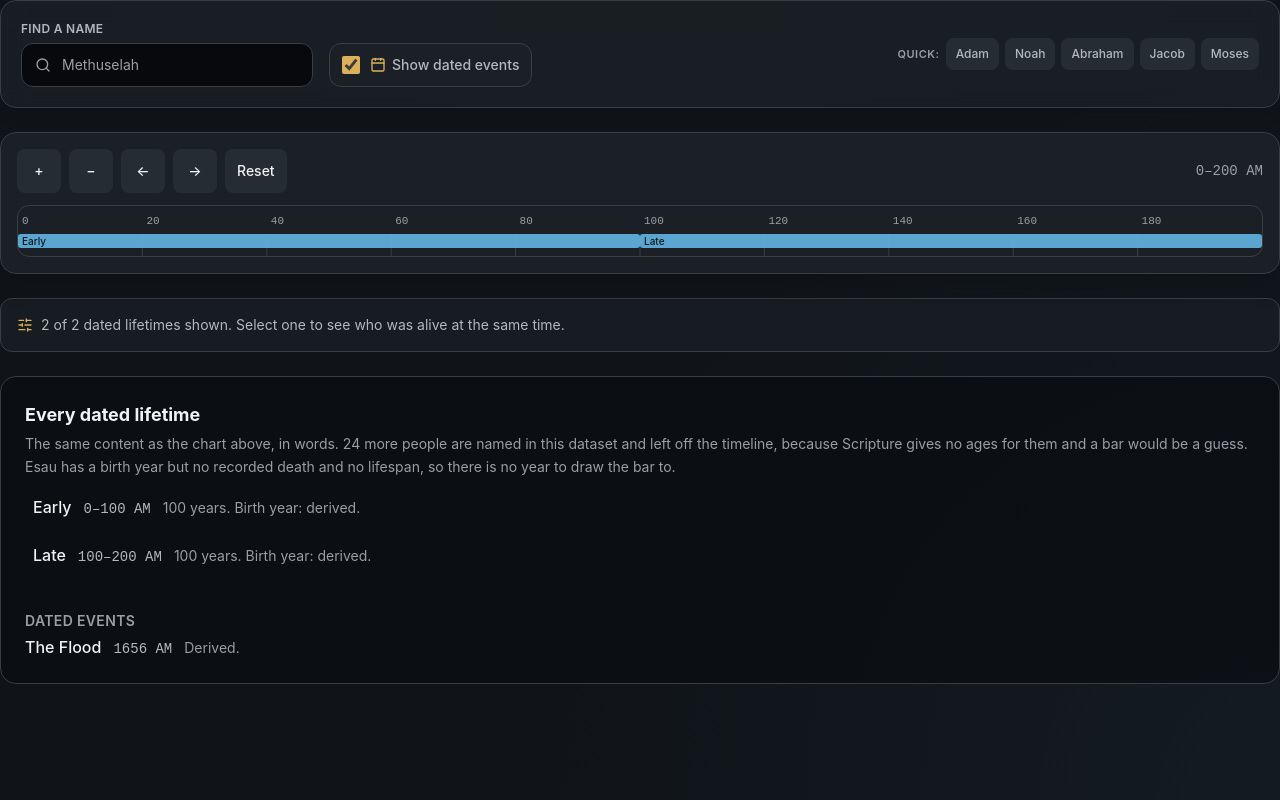
Test: Timeline › applies the half-open rule on screen, not only in the engine
This screenshot has width=1280, height=800.
Click the button "Early 0–100 AM 100 years. Birth year: derived.": (52, 506) [25, 494, 1255, 538]
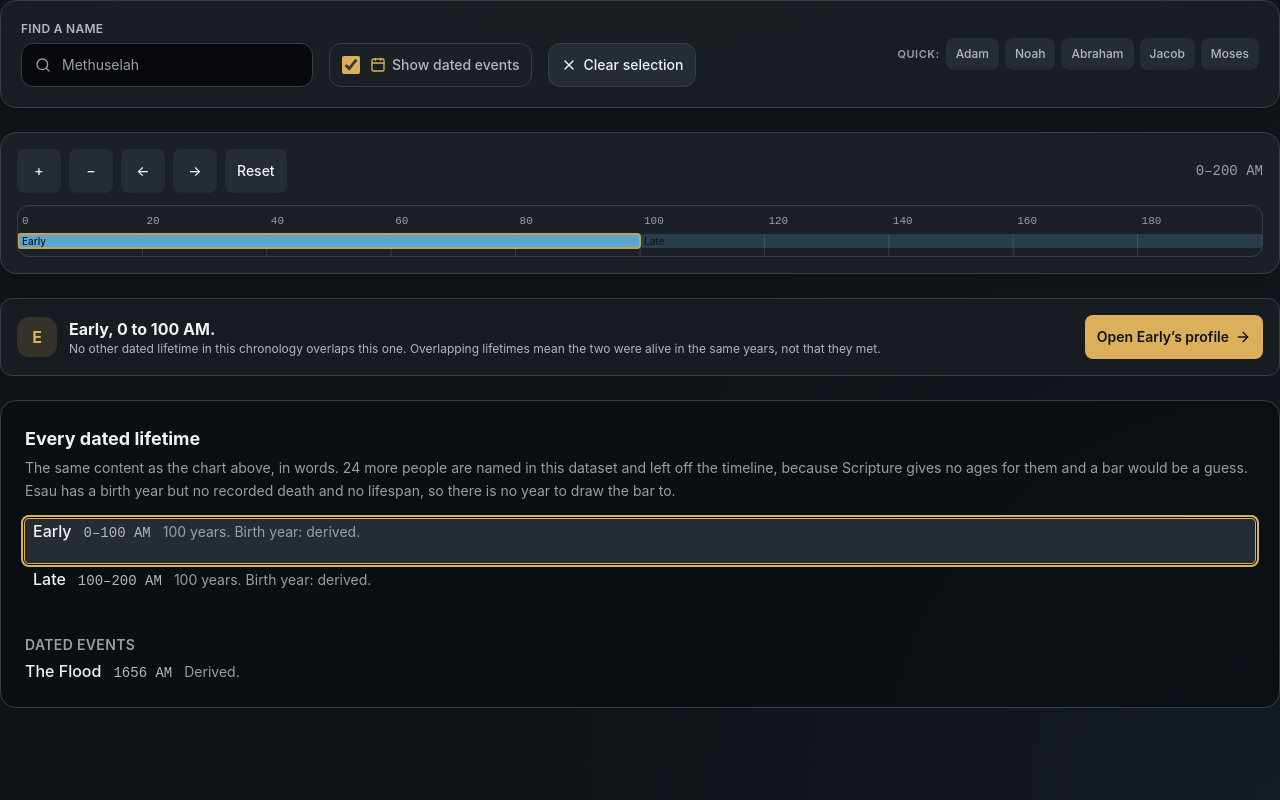
Now the message shows "No other dated lifetime", box [69, 341, 406, 356]
